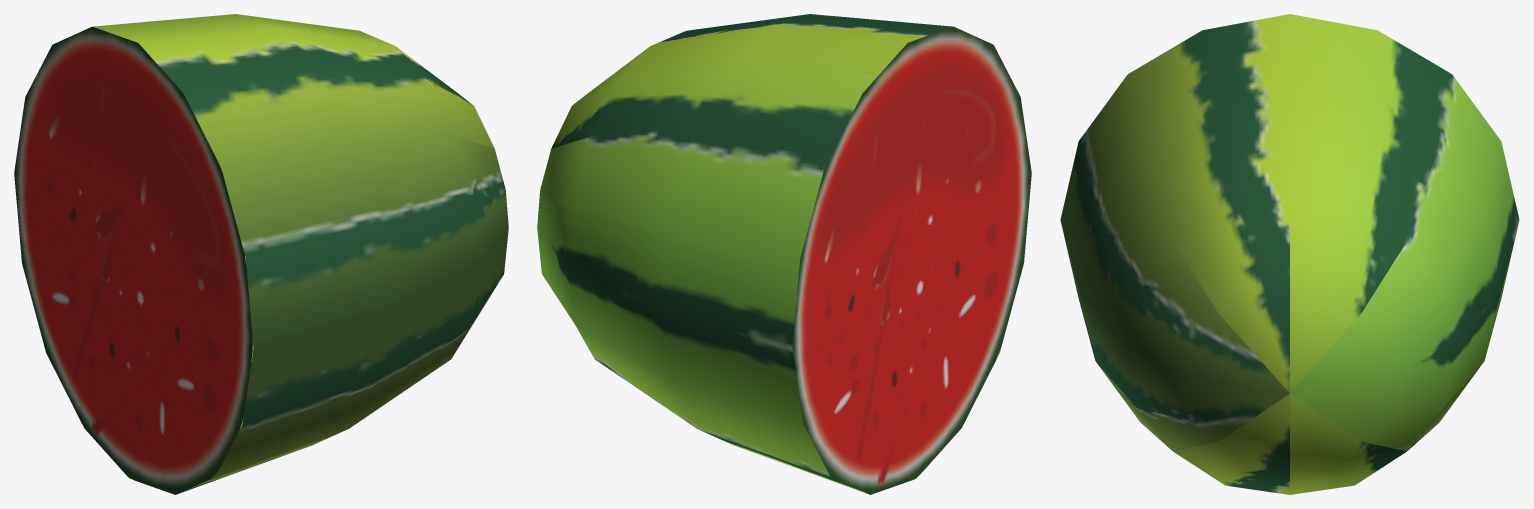
Rendered from watermelonS.FBX.
3 renders of one model, left to right at view 1: azimuth 30°, elevation 25°; view 2: azimuth 150°, elevation 25°; view 3: azimuth 270°, elevation 25°, orthographic. The views are drawn at different scales.
Visible parts, largest first — view 1: Water MelonS; view 2: Water MelonS; view 3: Water MelonS.
Boxes of the visible parts, x1=… form: Water MelonS: x1=14, y1=14, x2=508, y2=494; Water MelonS: x1=537, y1=14, x2=1031, y2=494; Water MelonS: x1=1060, y1=14, x2=1519, y2=494.
Bounding box in the file's own units: 15.44 × 17.81 × 17.81.
